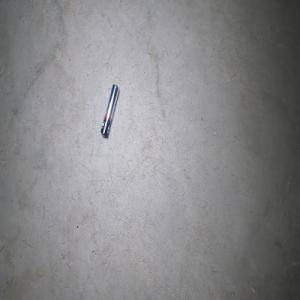Battery: (100, 83, 119, 138)
